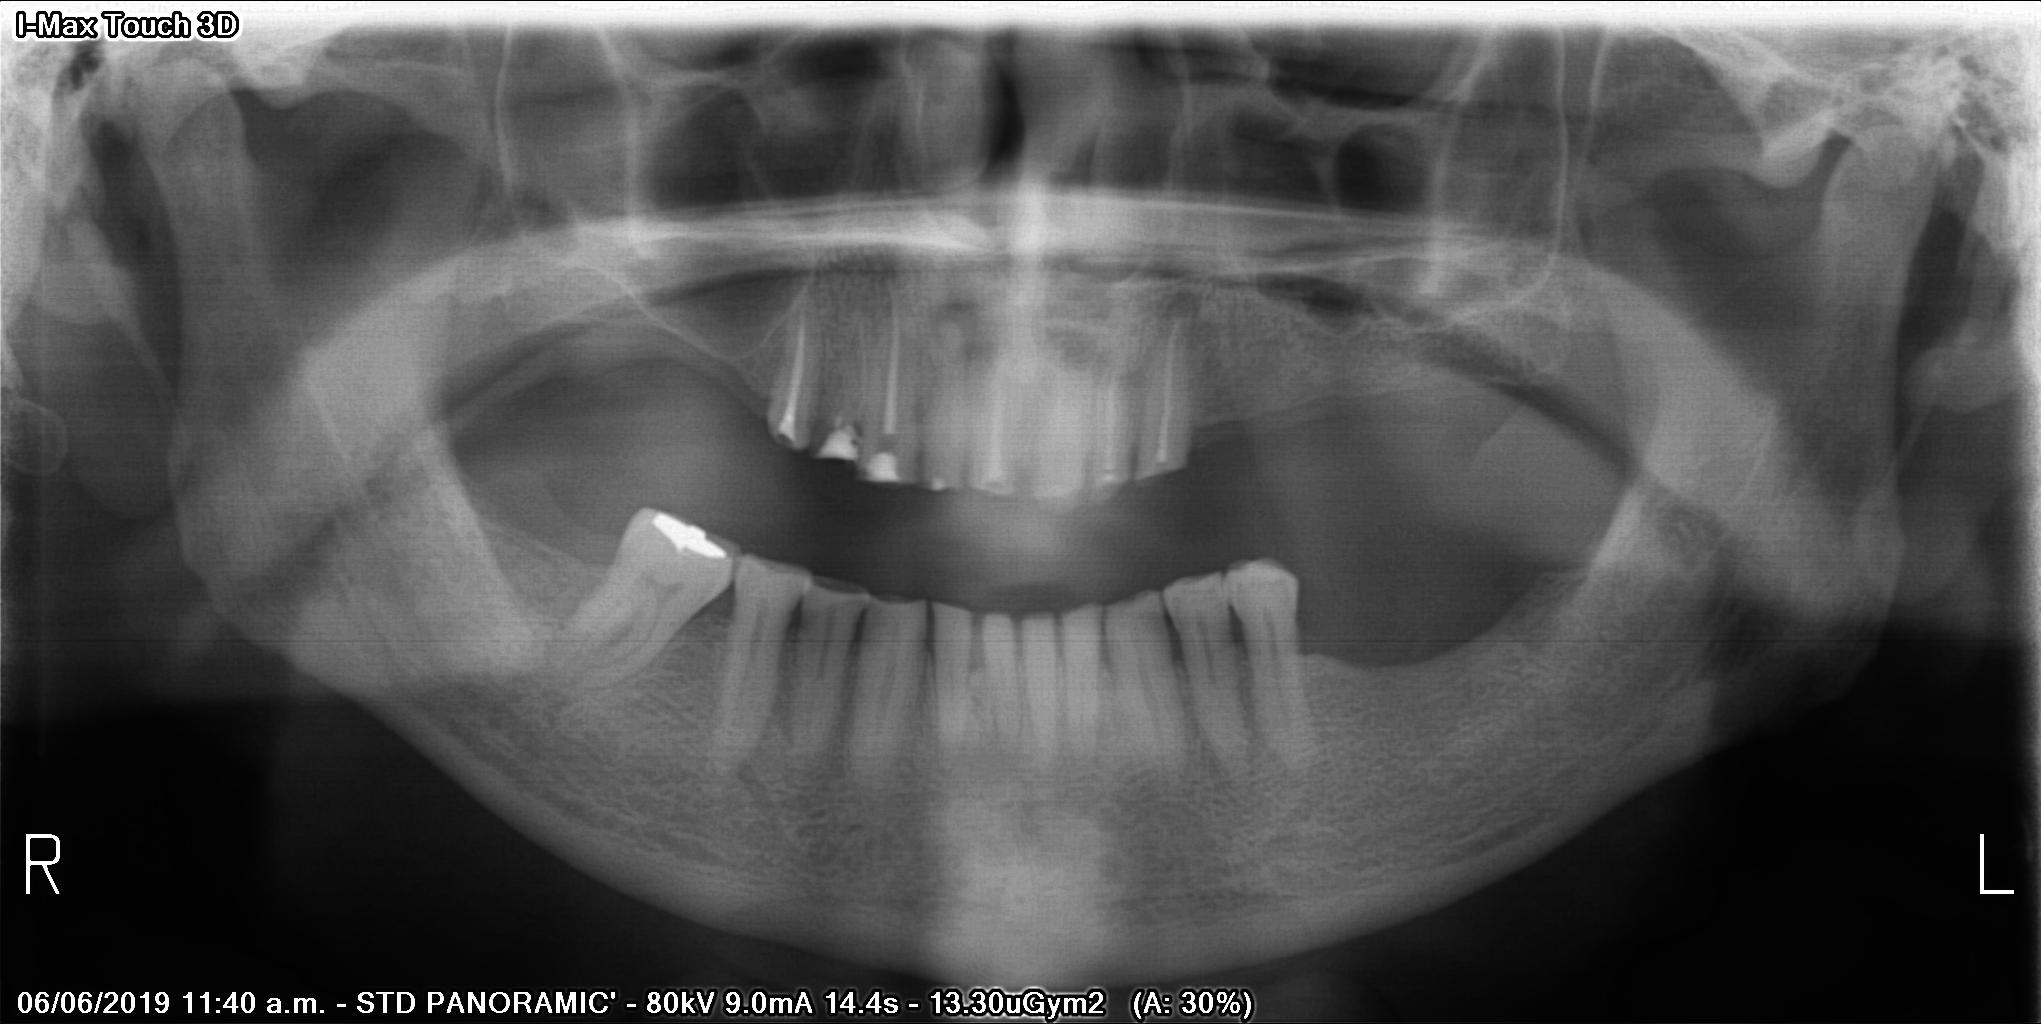Çürük: (639, 501, 730, 566), (864, 452, 913, 484), (822, 428, 852, 464), (780, 412, 804, 446)
